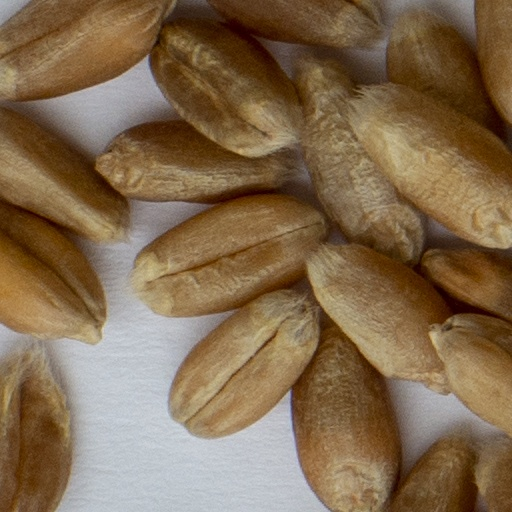Wheat-grain-poly: (295, 50, 428, 263), (343, 80, 511, 248), (149, 14, 296, 157), (383, 5, 511, 144), (201, 0, 386, 48), (471, 0, 511, 128)
